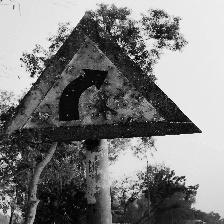Right-turn: (3, 14, 202, 142)
